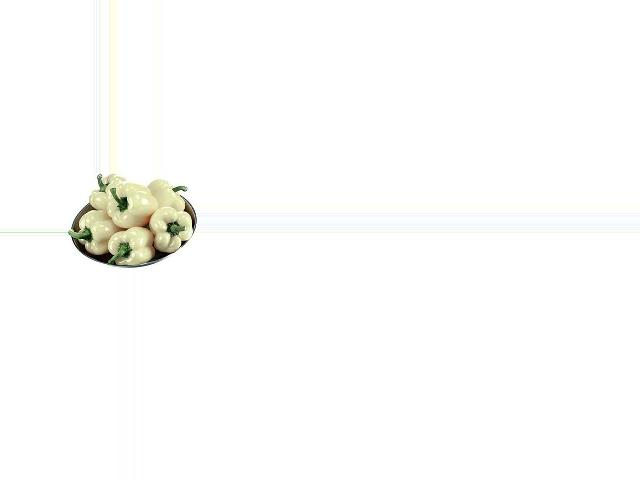bell_pepper: (84, 174, 126, 214)
